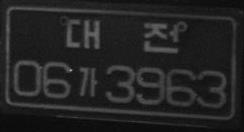0: (13, 59, 42, 97)
3: (196, 69, 227, 110), (105, 64, 135, 104)
6: (166, 68, 196, 108), (42, 60, 71, 100)
9: (136, 66, 166, 106)
가: (75, 65, 98, 97)
대전_D: (64, 18, 180, 55)
